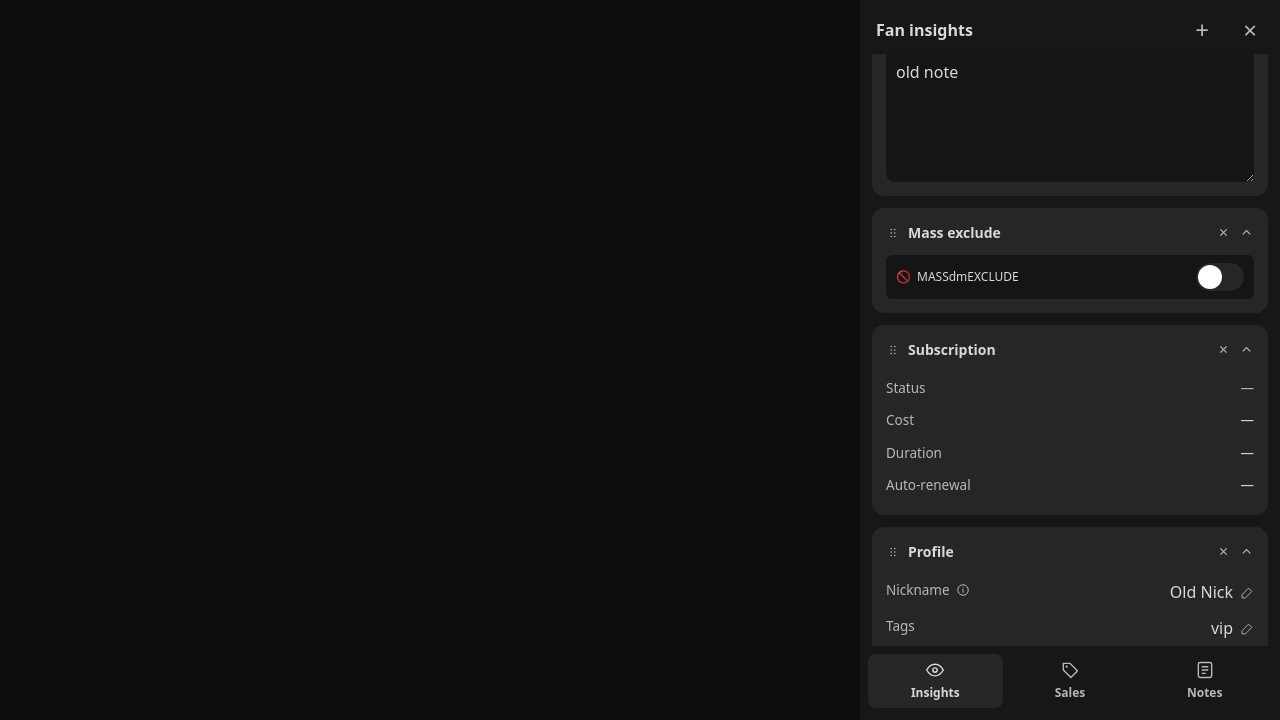
Test: Fan insights blocks › a block's chevron collapses its rows and flips aria-expanded, then expands it again; the grip moves the block
(page scrolled)
Click the button named "Collapse Subscription" at {"x": 1246, "y": 350}, box x1=1239 y1=342 x2=1254 y2=357
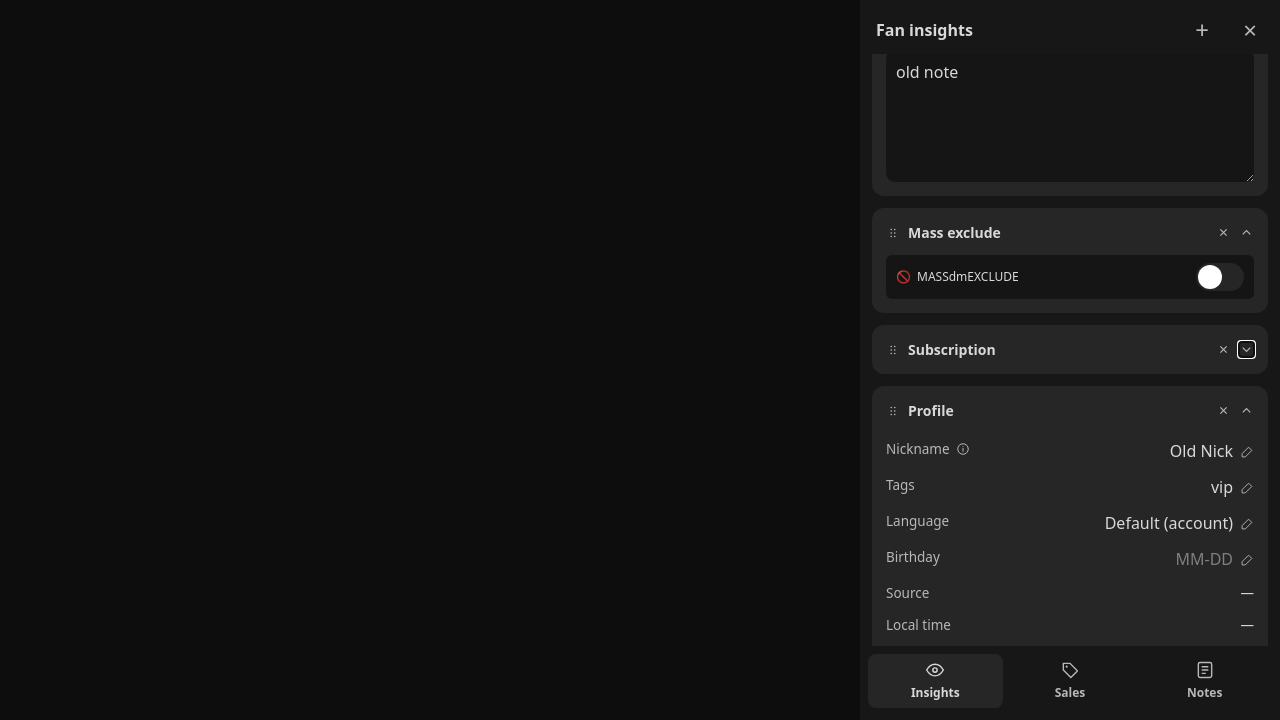
Now the button named "Expand Subscription" is collapsed
Now the text "Auto-renewal" is gone
Click the button named "Expand Subscription" at {"x": 1246, "y": 350}, box x1=1239 y1=342 x2=1254 y2=357
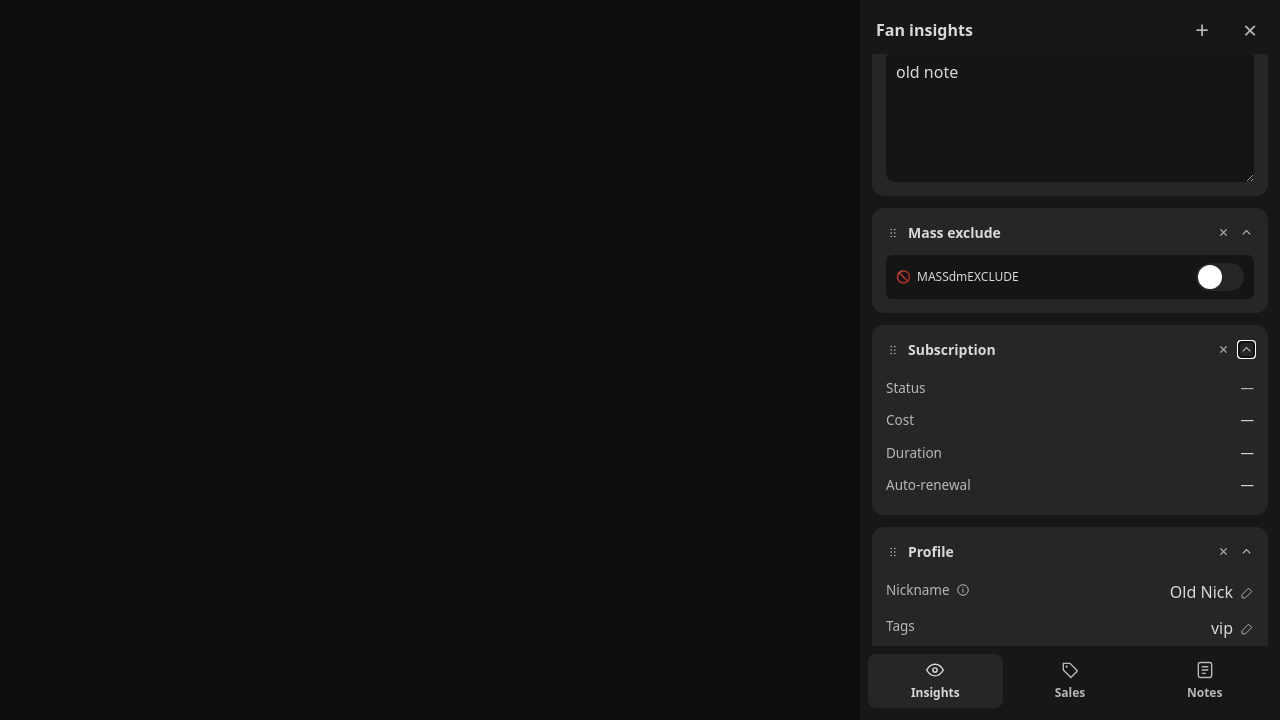
Expected: the button named "Move Subscription" is shown, x1=886 y1=342 x2=900 y2=356
Now the button named "Collapse Subscription" is expanded, box x1=1239 y1=342 x2=1254 y2=357
